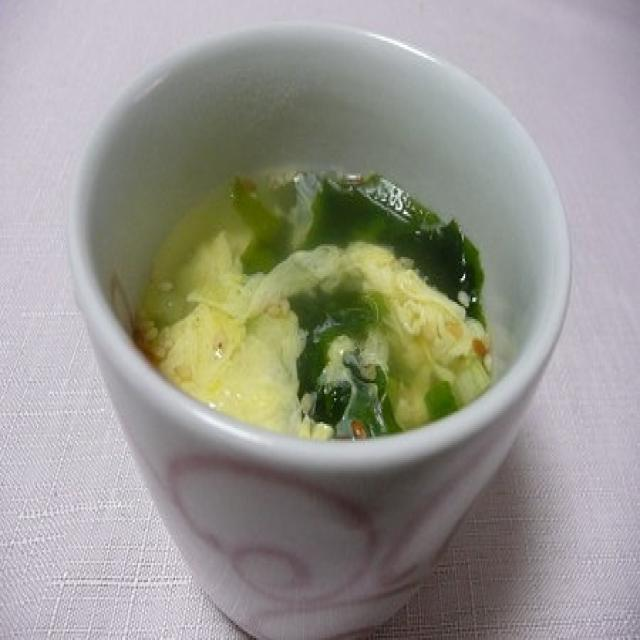汤锅炖物: (55, 13, 578, 640)
